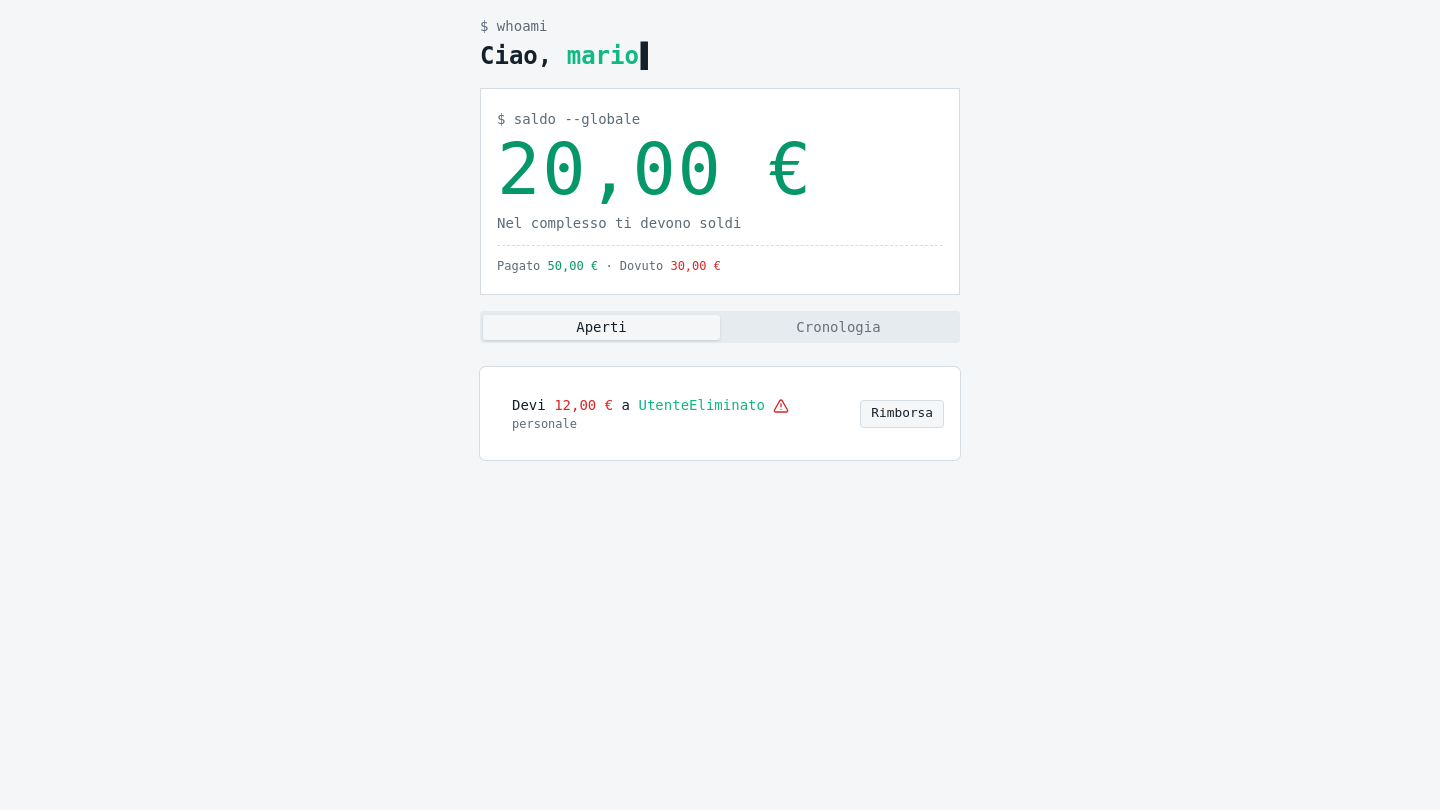
it: HomePage › controparte eliminata (DEBT): dialog senza "Dimentica il debito"
Expected: the button "Rimborsa" is shown, [860,400,944,428]
Step 1. Click the button named "Utente eliminato" → [781, 406], box [765,384,797,428]
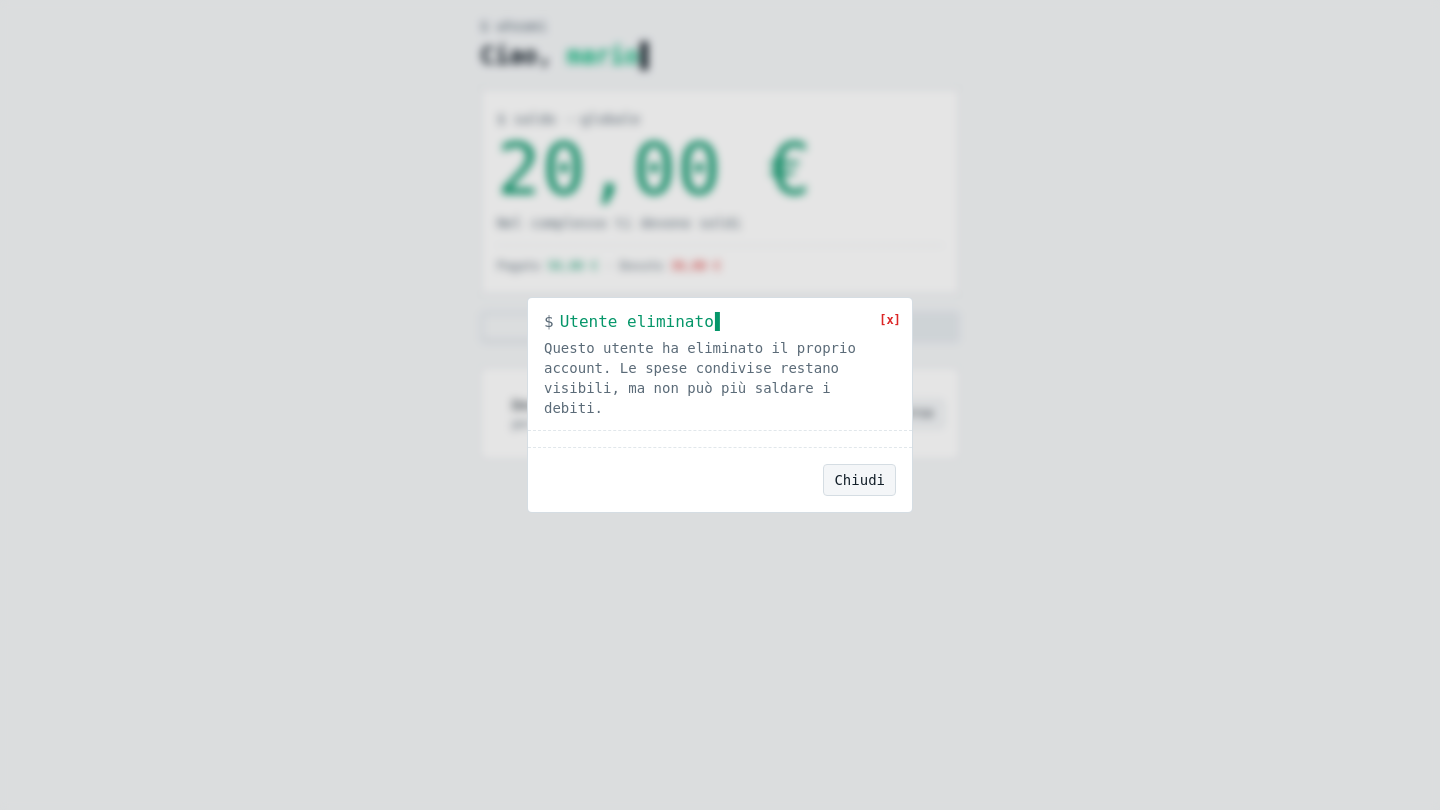
Expected: the text "ha eliminato il proprio account" is shown, [544,340,856,416]
